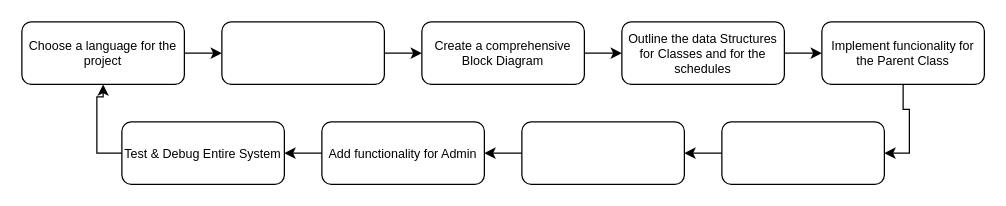
This 1006x206 diagram has some shape labels left out. The box of each missing label's shape, as (x1, y1, x2, y2) in pixels:
Add functionality for Instuctor: (521, 121, 684, 184)
Add functionality to the inherited classes, starting with student: (721, 121, 884, 184)
Setup coding environment and repository: (221, 21, 384, 84)
